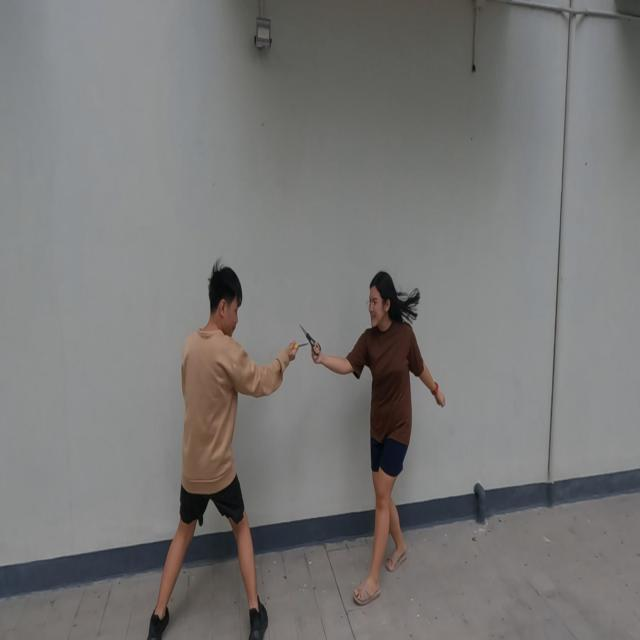scissor: (299, 323, 321, 358)
